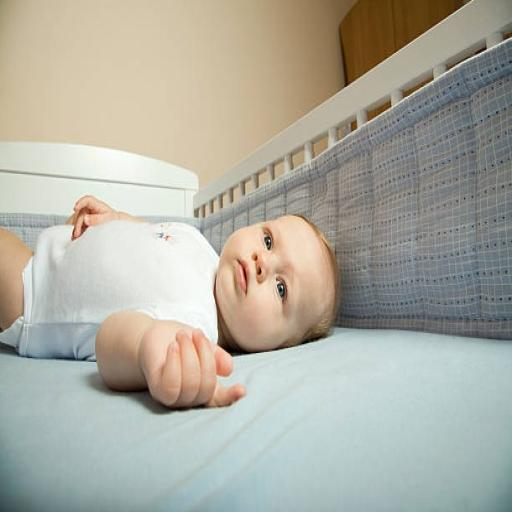baby: (0, 196, 338, 408)
crib: (0, 0, 511, 510)
